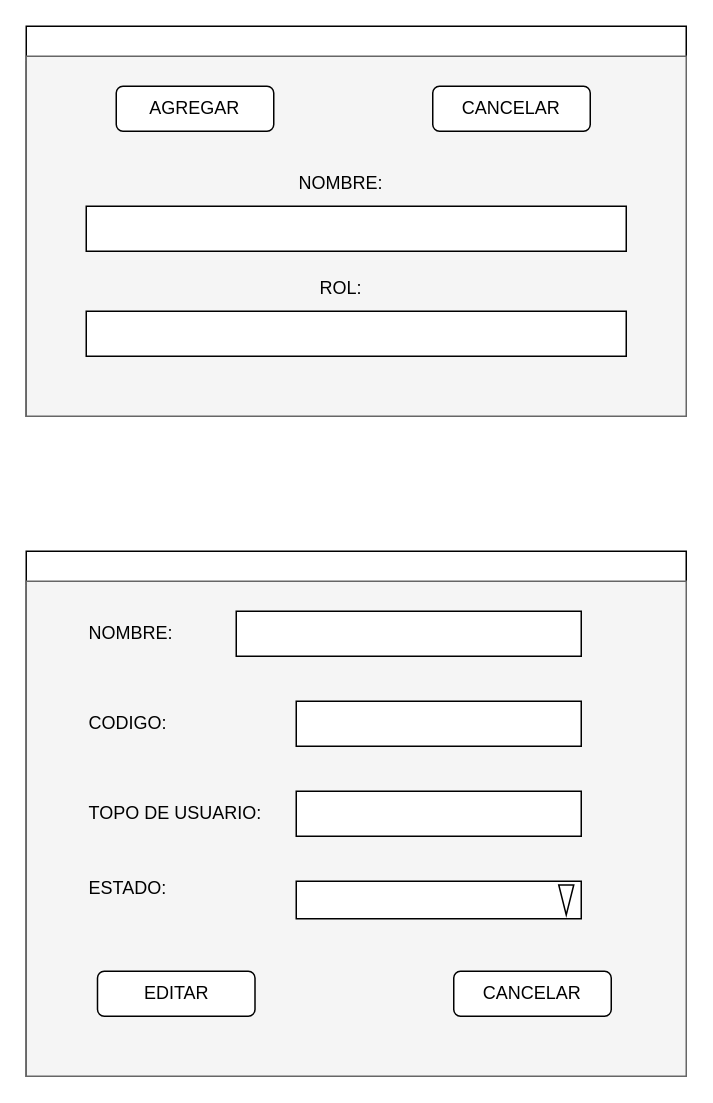
Some shapes in this 713 by 1103 pixel diagram are drawn without their labels. The shapes that lost their labels are listed below. From the top down, each one's box as (x1, y1, x2, y2) in pixels, then its label:
(25, 25, 686, 416): AGREGAR USUARIO
(25, 550, 686, 1076): EDITAR USUARIO
